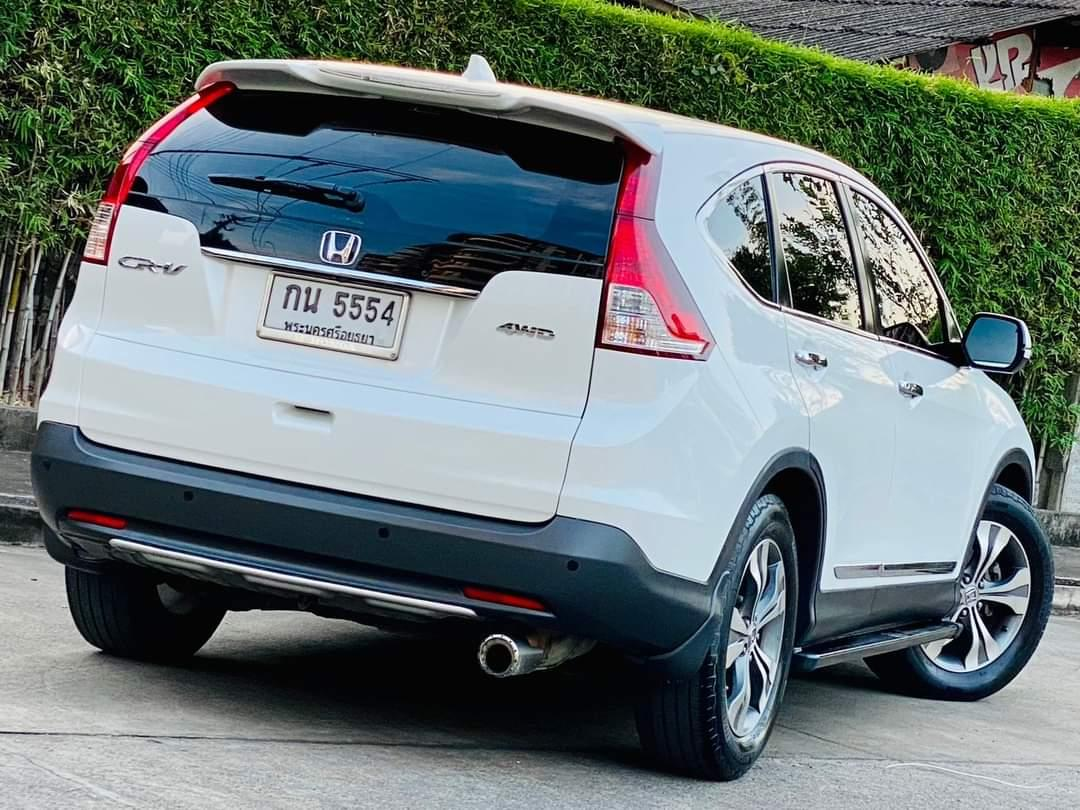license-plate: (258, 261, 411, 362)
